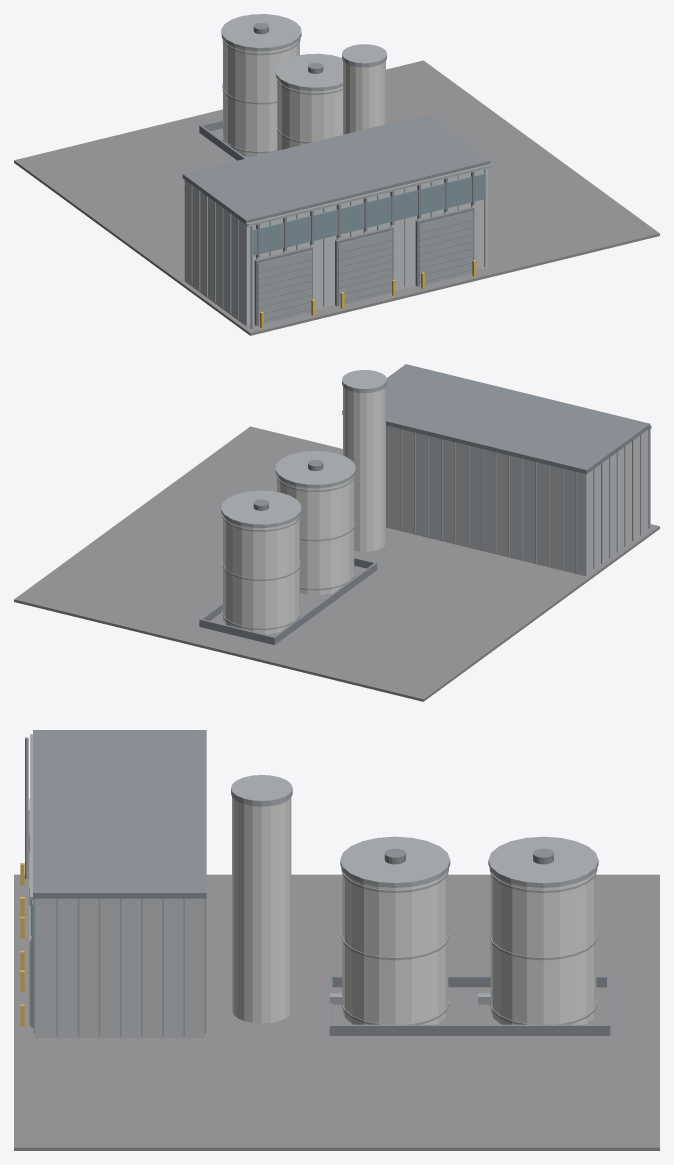
Rendered from industrial_4x4_c.glb.
3 renders of one model, top to bottom at view 1: azimuth 30°, elevation 25°; view 2: azimuth 150°, elevation 25°; view 3: azimuth 270°, elevation 25°, orthographic. The views are drawn at different scales.
Visible parts, largest first — view 1: industrial_4x4_c_yard; view 2: industrial_4x4_c_yard; view 3: industrial_4x4_c_yard.
Part boxes in pixels (x1,y1,x2,y2): industrial_4x4_c_yard: (14, 14, 659, 335); industrial_4x4_c_yard: (14, 364, 659, 701); industrial_4x4_c_yard: (14, 730, 659, 1150).
Size of the model in its own units: 30.5 by 11.8 by 30.5.
